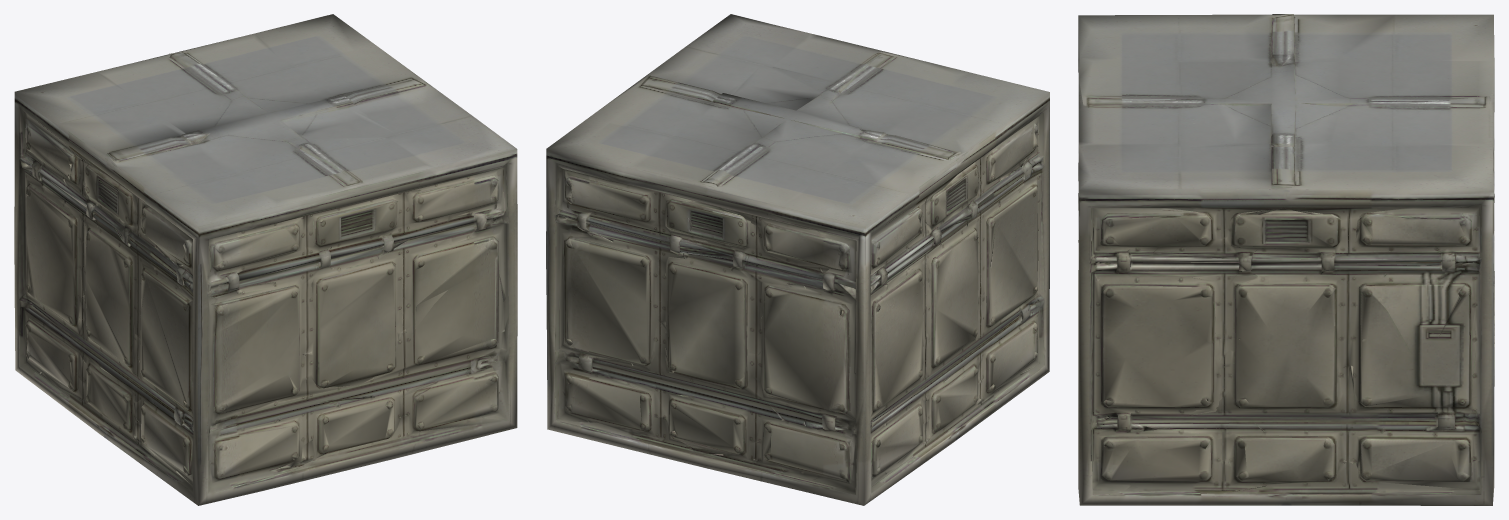
Rendered from Room.glb.
3 views of the same model, side by side, from view 1: azimuth 30°, elevation 25°; view 2: azimuth 150°, elevation 25°; view 3: azimuth 270°, elevation 25° (orthographic). The views are drawn at different scales.
Visible parts, largest first — view 1: Mesh_0; view 2: Mesh_0; view 3: Mesh_0.
Boxes of the visible parts, bbox=[...] form: Mesh_0: bbox=[14, 14, 517, 505]; Mesh_0: bbox=[546, 14, 1049, 505]; Mesh_0: bbox=[1078, 14, 1494, 505].
Bounding box in the file's own units: 1.91 × 1.62 × 1.91.
1 material, 1 textured.
